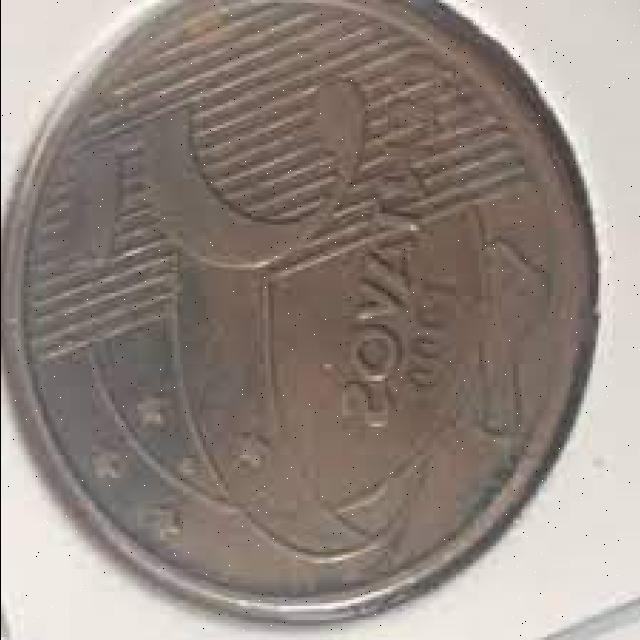5 cent: (0, 1, 589, 626)
